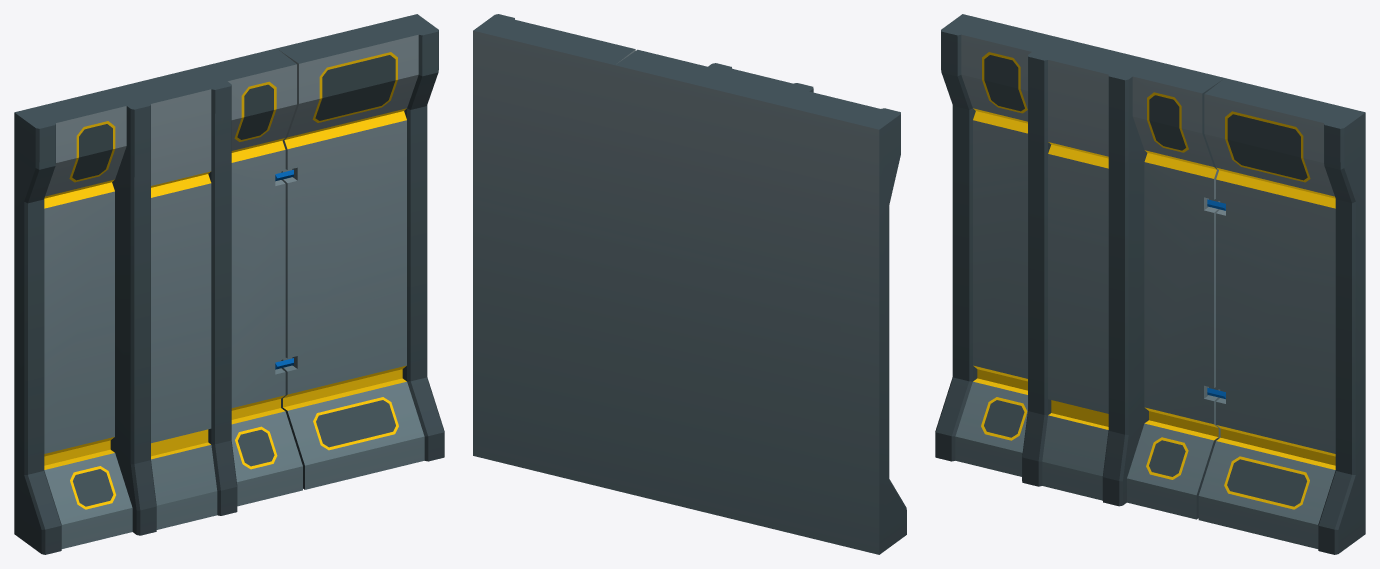
Rendered from Wall_type_C_048.fbx.
The picture shows the model from 3 angles, left to right: view 1: azimuth 30°, elevation 25°; view 2: azimuth 150°, elevation 25°; view 3: azimuth 330°, elevation 25°; orthographic projection.
Visible parts, largest first — view 1: Wall_type_C_048; view 2: Wall_type_C_048; view 3: Wall_type_C_048.
Boxes of the visible parts, box(x1,y1,x2,y2) form: Wall_type_C_048: box(14, 14, 444, 554); Wall_type_C_048: box(473, 14, 906, 554); Wall_type_C_048: box(935, 14, 1365, 554).
Bounding box in the file's own units: 400 × 57 × 400.
